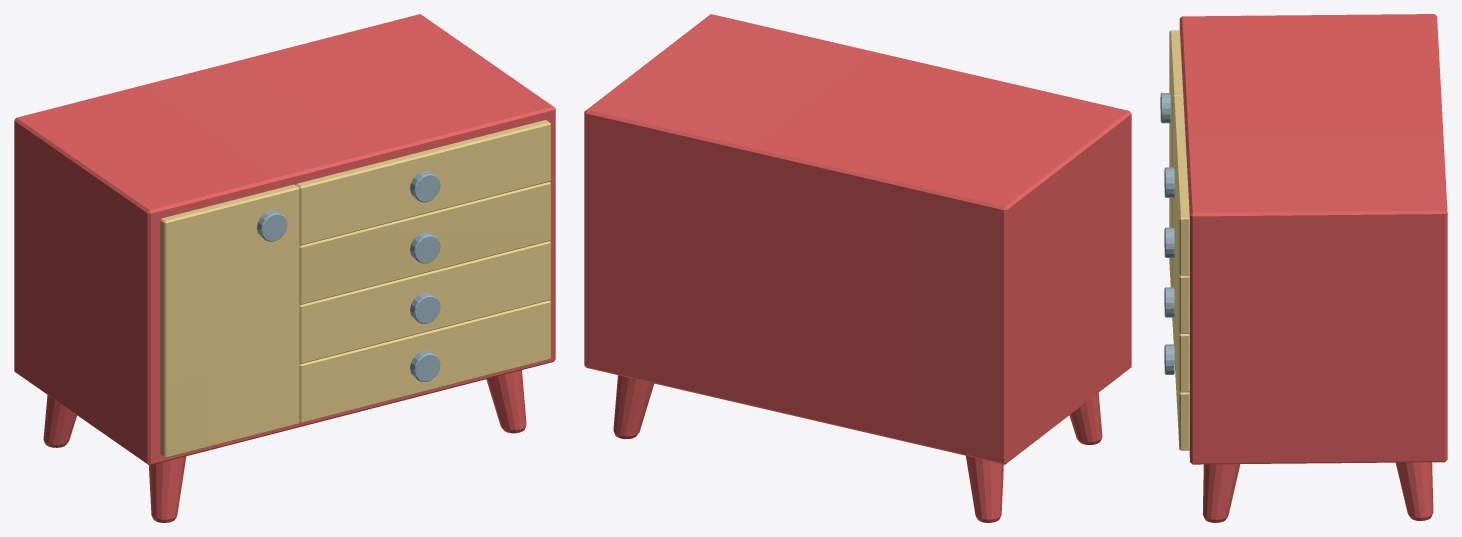
The model's file is drawers2.fbx.
The picture shows the model from 3 angles, left to right: view 1: azimuth 30°, elevation 25°; view 2: azimuth 150°, elevation 25°; view 3: azimuth 270°, elevation 25°; orthographic projection. The views are drawn at different scales.
Visible parts, largest first — view 1: drawers2; view 2: drawers2; view 3: drawers2.
Part boxes in pixels (x1,y1,x2,y2): drawers2: [14, 14, 555, 522]; drawers2: [584, 14, 1131, 522]; drawers2: [1160, 14, 1447, 522].
Bounding box in the file's own units: 117 × 86.53 × 70.29.
1 material, 1 textured.
